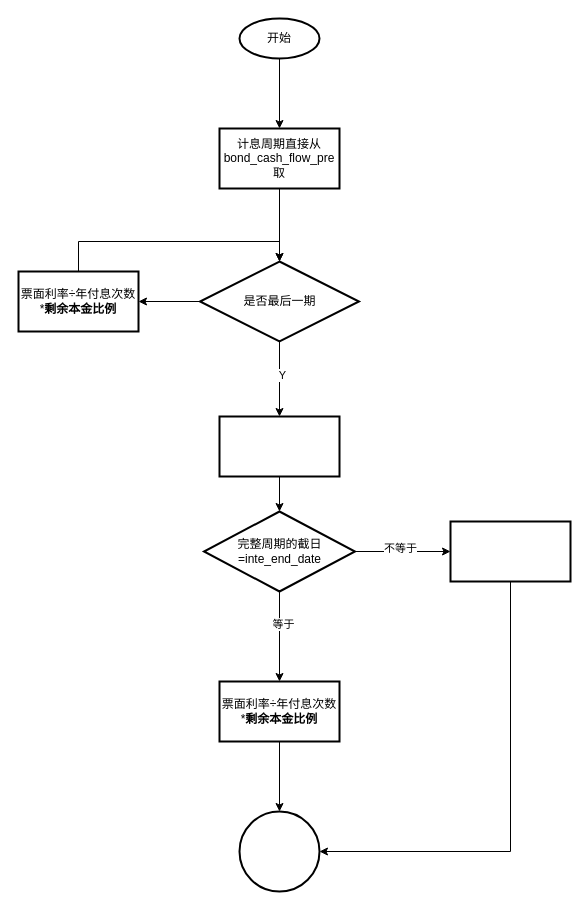
This 588x909 diagram has some shape labels left out. The shapes that lost their labels are listed below. From the top down, each one's box as (x1, y1, x2, y2) in pixels, then its label:
(218, 415, 340, 477): 完整周期的截日=inte_start_date+(12/付息此时)月-1天
(449, 520, 571, 582): 根据计息规则计算应付利息* 剩余本金比例
(238, 810, 320, 892): 结束
